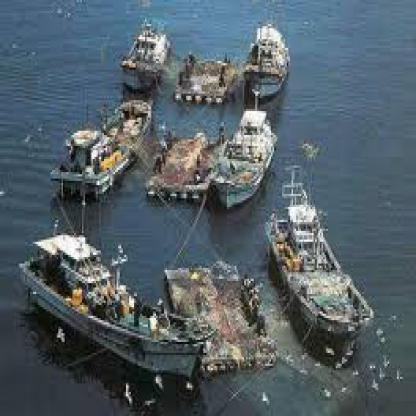fish-b: (5, 214, 219, 388), (265, 157, 383, 361), (33, 87, 156, 209), (208, 96, 282, 216), (235, 13, 294, 102), (115, 13, 170, 94)
